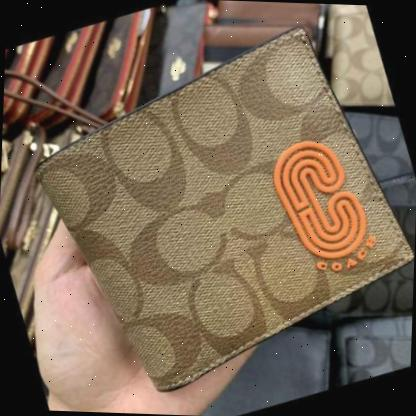bag: (25, 12, 416, 401)
